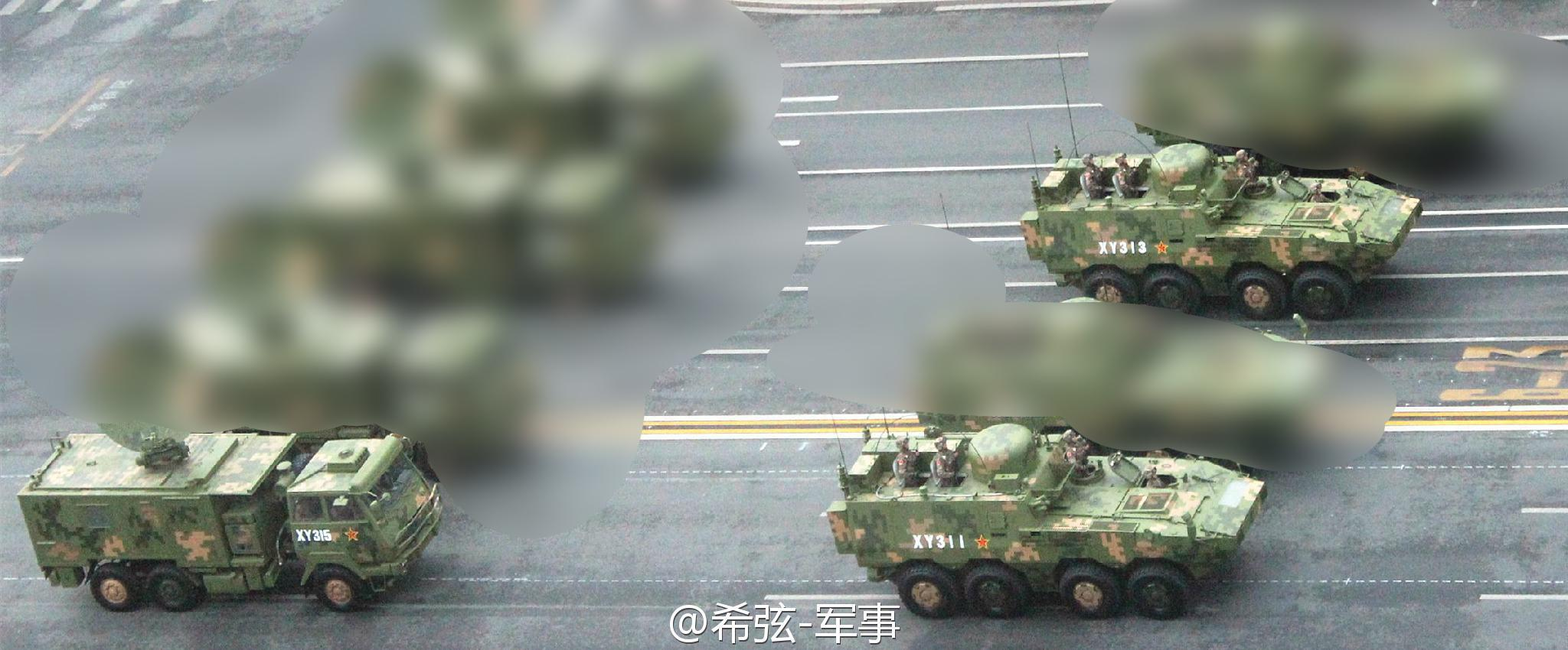armored_car: (822, 419, 1270, 621), (1019, 141, 1425, 323)
truck: (14, 426, 446, 613)
